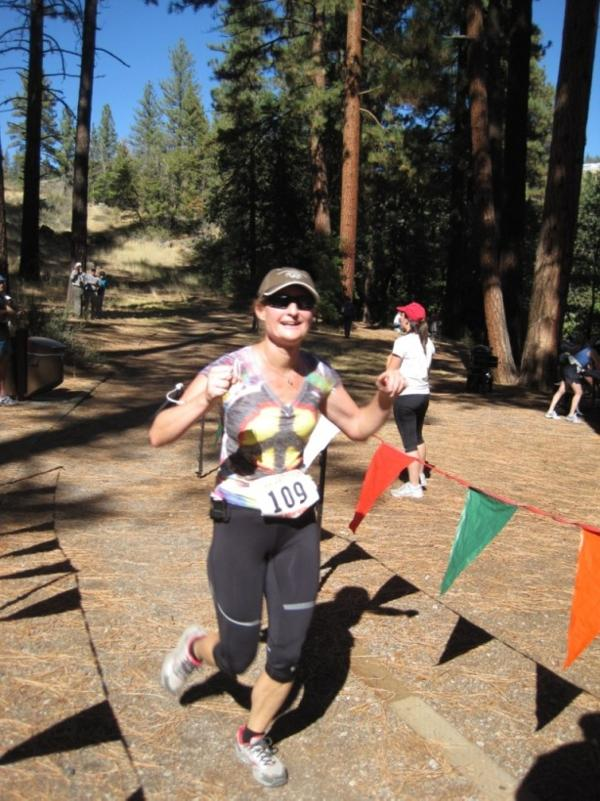person: (150, 269, 407, 793)
